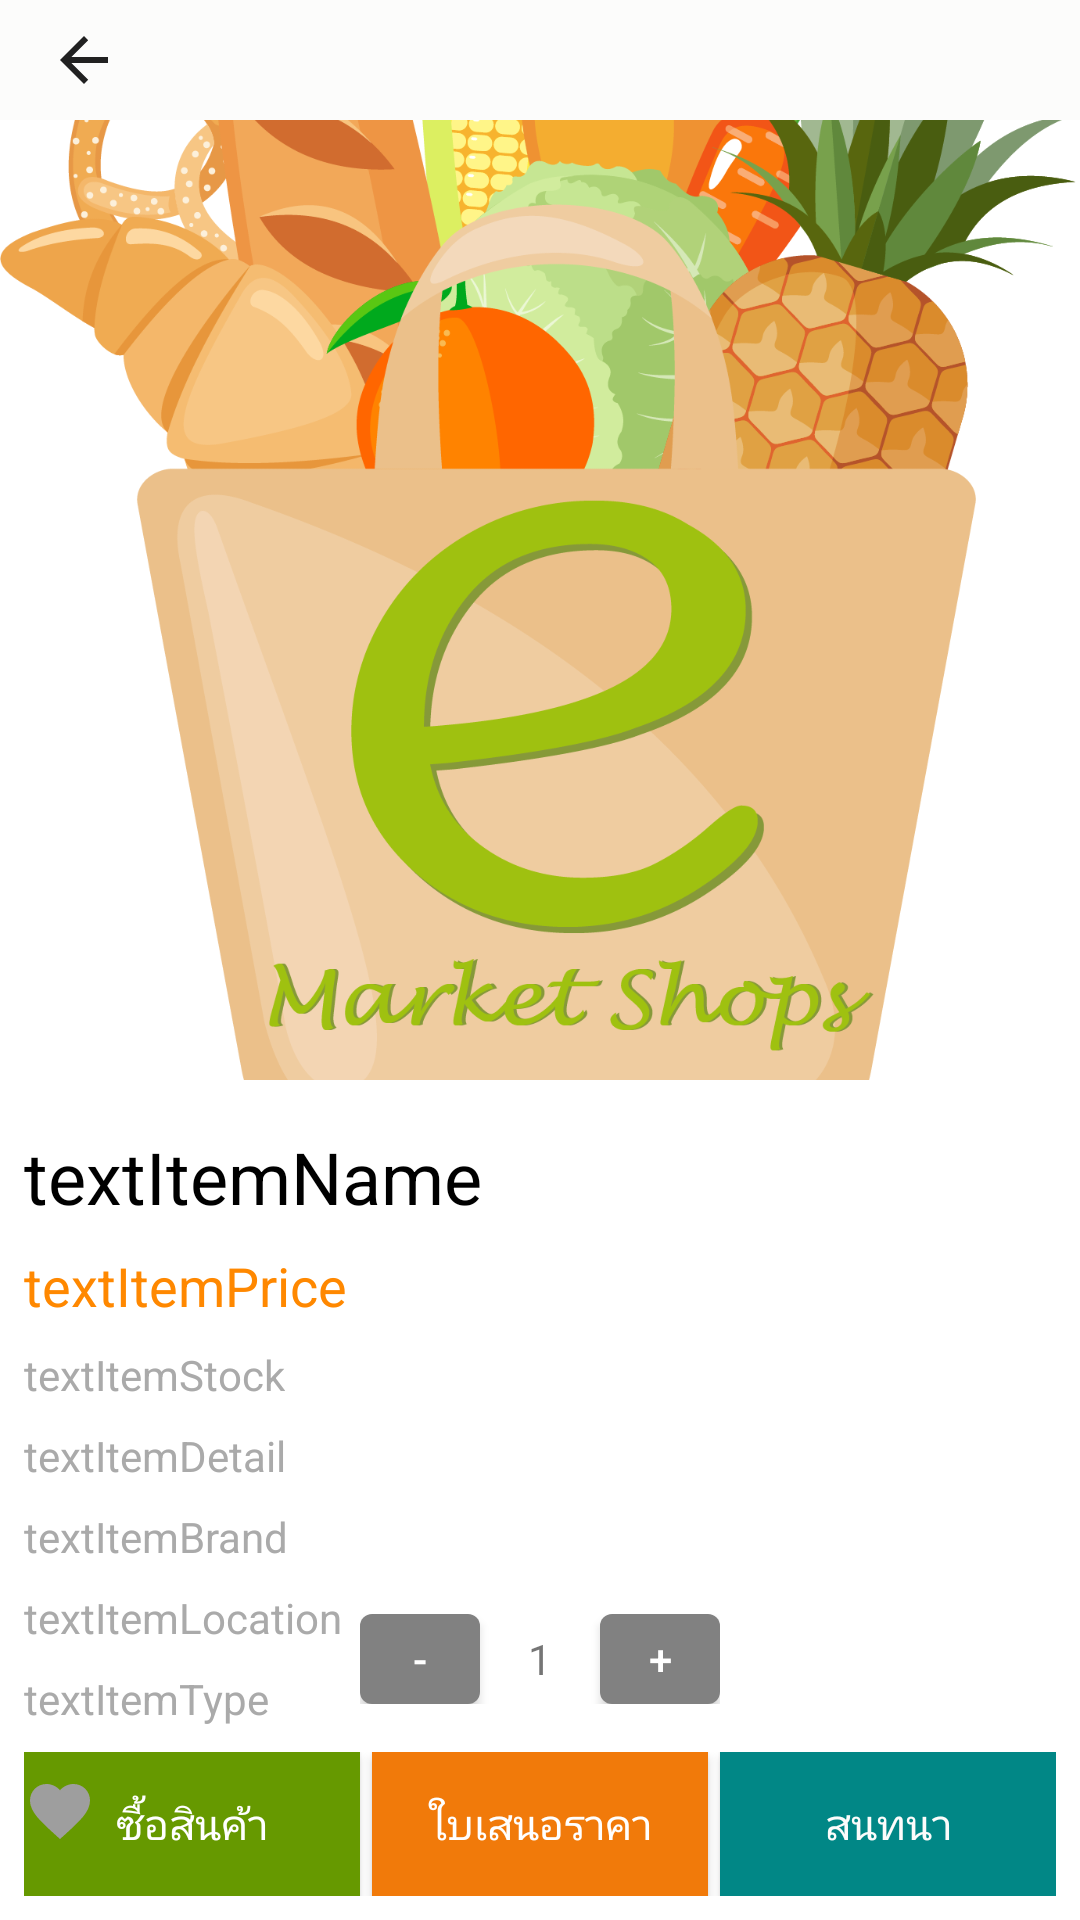

Icon bounding boxes for this 1080 x 1920 phone screenshot, format Rect(x1, y1, x2, y2):
favorite: Rect(30, 1784, 90, 1839)
